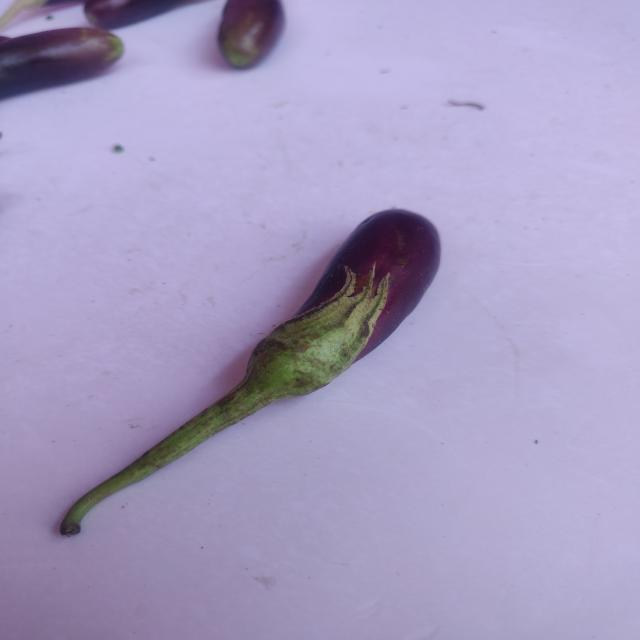Brinjal: (29, 178, 502, 589)
